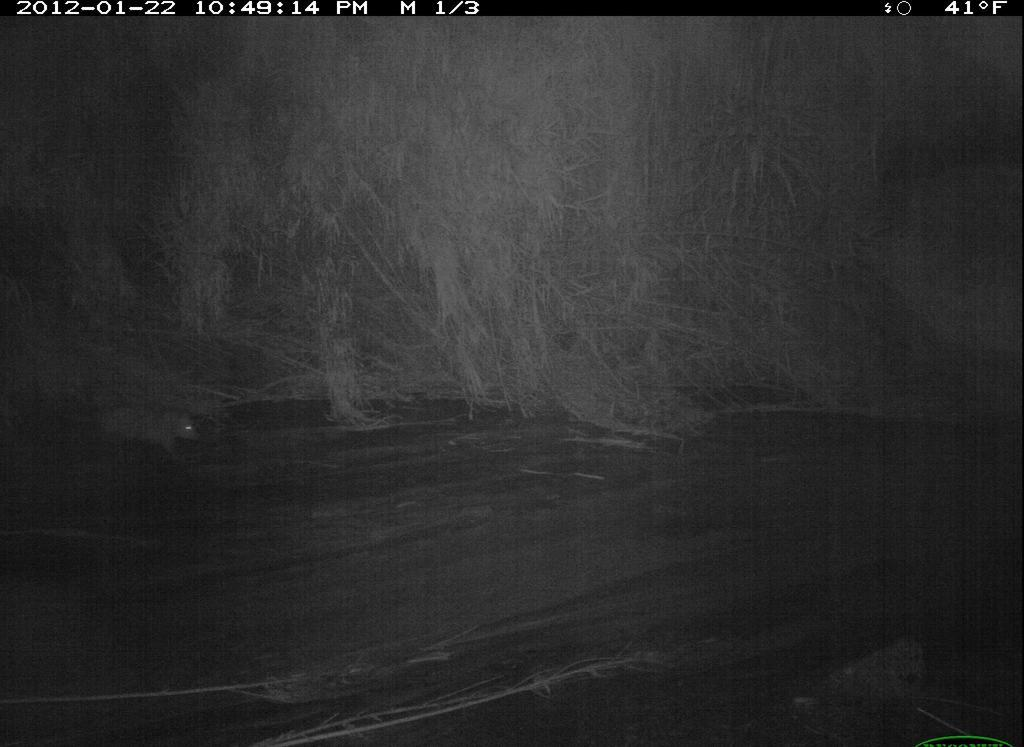opossum: (48, 392, 208, 466)
